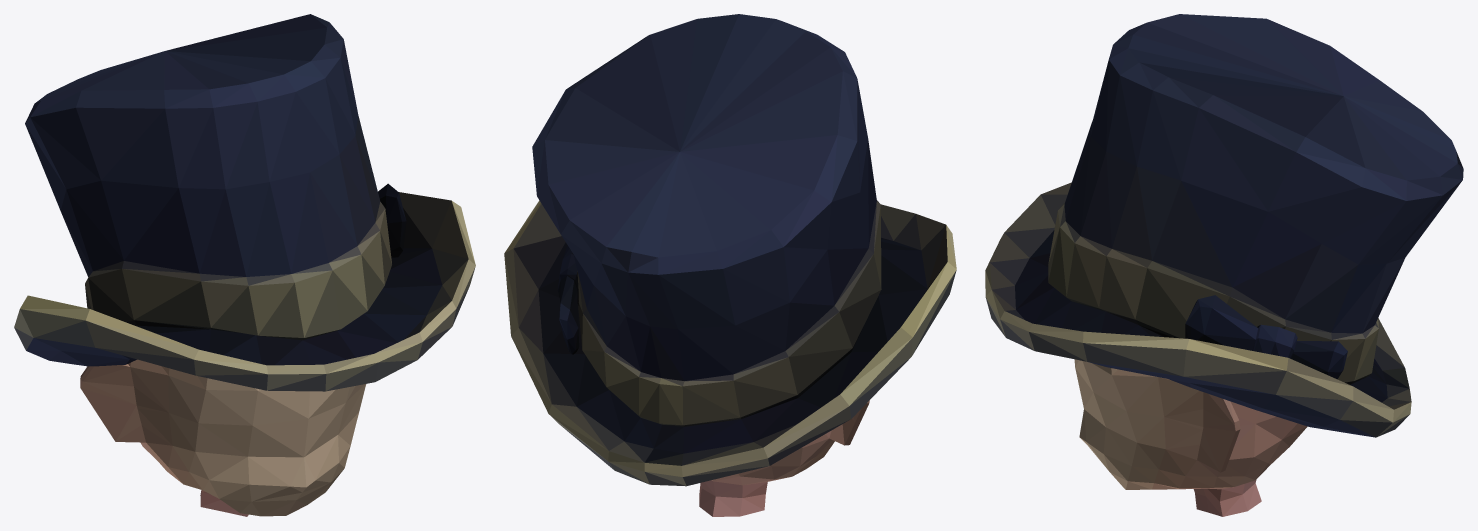
The model's file is helm_lightskin_bald_tophat.fbx.
The picture shows the model from 3 angles, left to right: view 1: azimuth 30°, elevation 25°; view 2: azimuth 150°, elevation 25°; view 3: azimuth 270°, elevation 25°; orthographic projection. The views are drawn at different scales.
Visible parts, largest first — view 1: helm_lightskin_bald_tophat; view 2: helm_lightskin_bald_tophat; view 3: helm_lightskin_bald_tophat.
Part boxes in pixels (x1,y1,x2,y2): helm_lightskin_bald_tophat: (14,14,475,516); helm_lightskin_bald_tophat: (504,14,956,516); helm_lightskin_bald_tophat: (985,14,1463,516).
Bounding box in the file's own units: 1.55 × 1.7 × 1.59.
